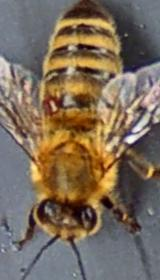varroa_mite: (36, 94, 70, 116)
